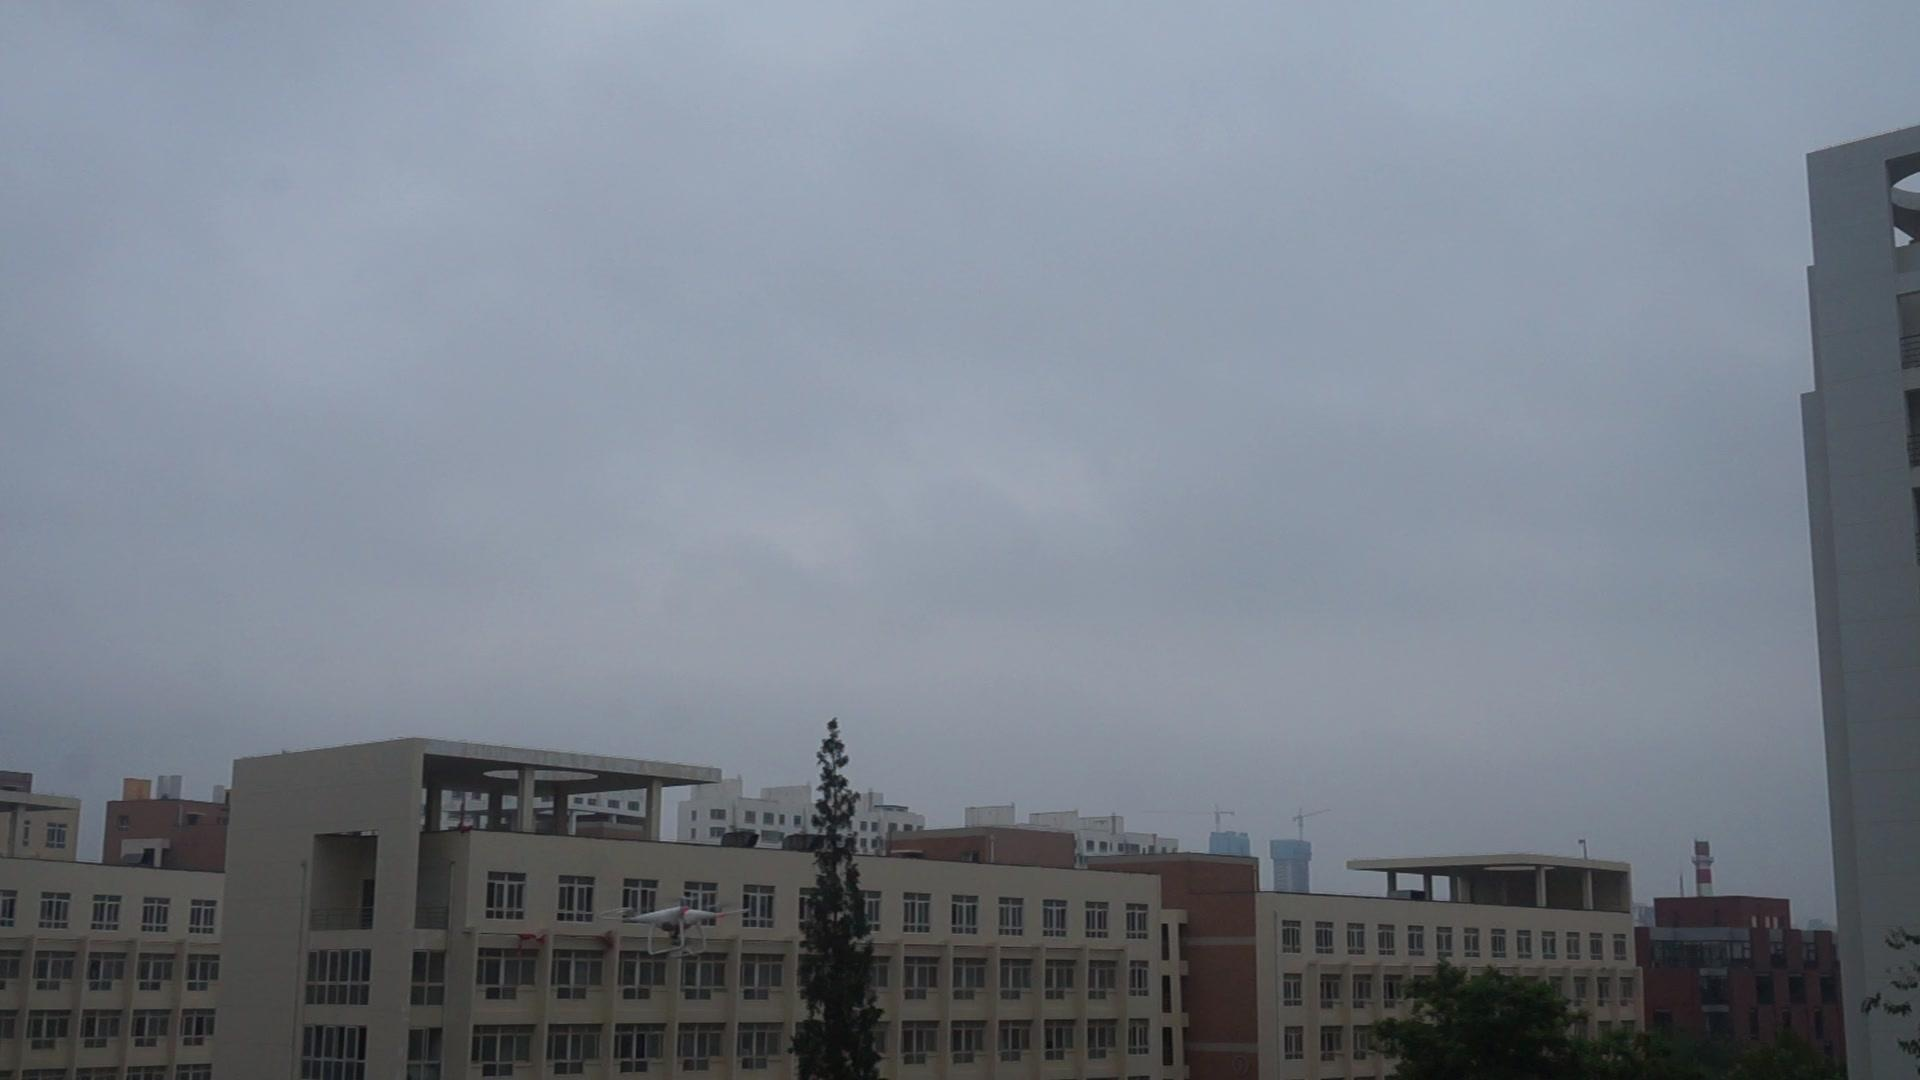UAV: (601, 897, 752, 956)
